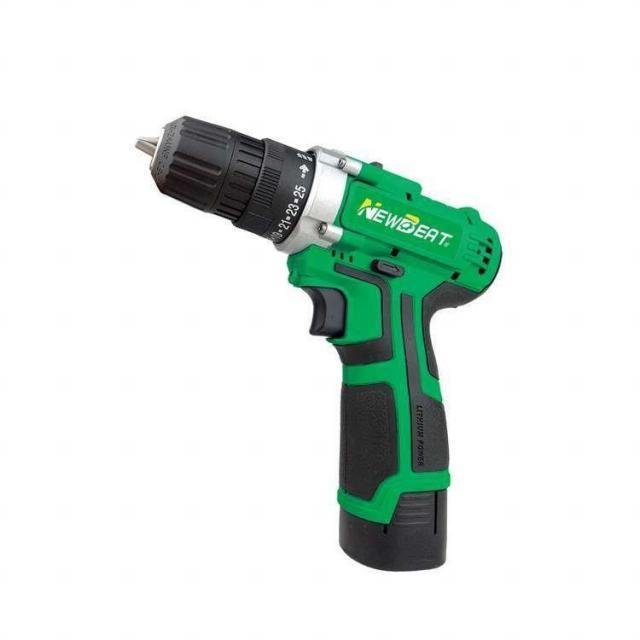drill: (132, 115, 502, 573)
